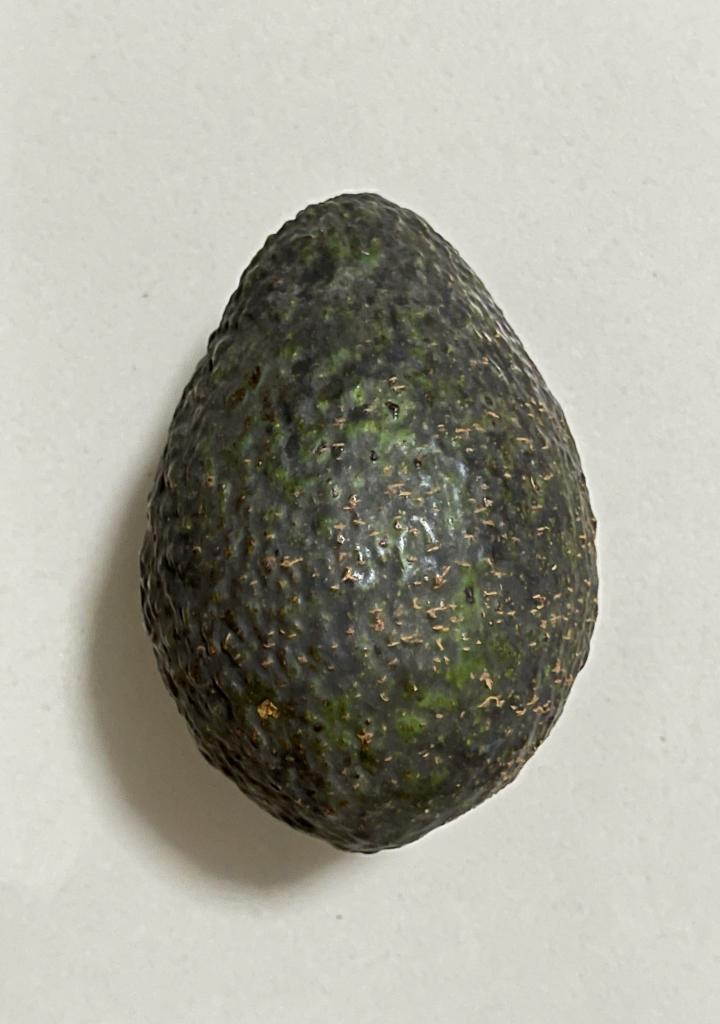Level1: (131, 170, 614, 872)
